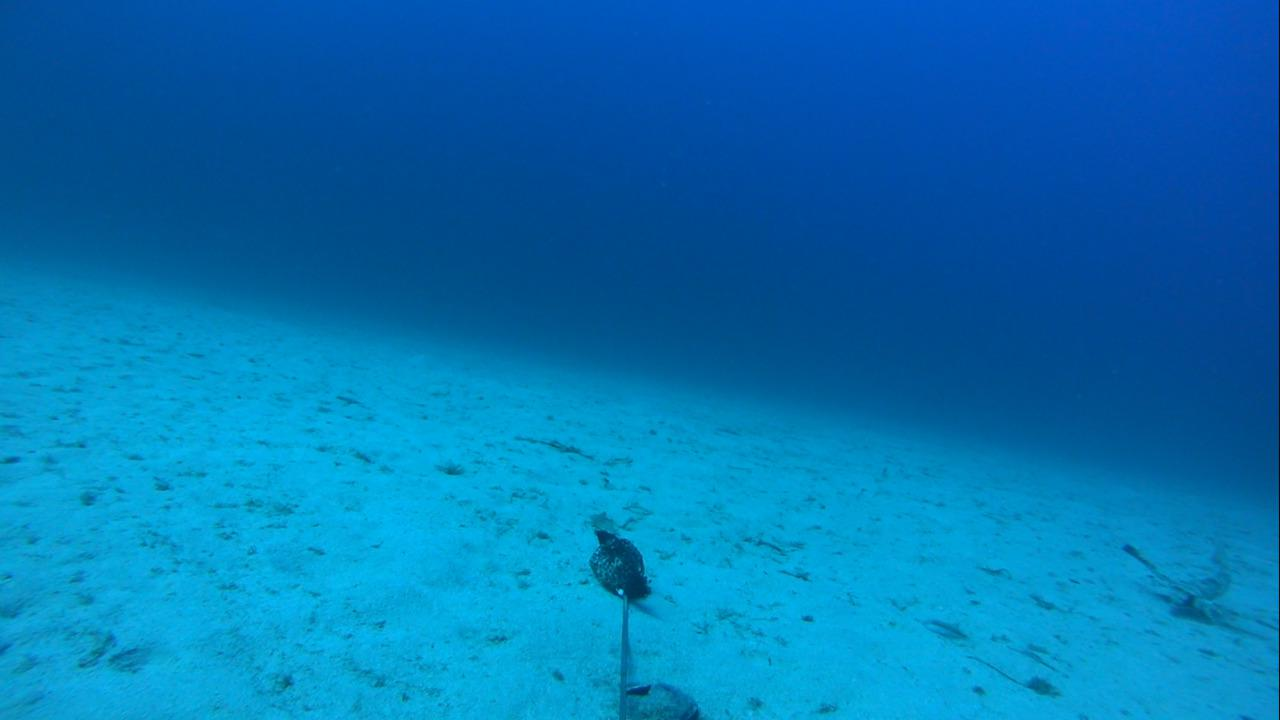dactylopterus: (1113, 529, 1275, 636)
